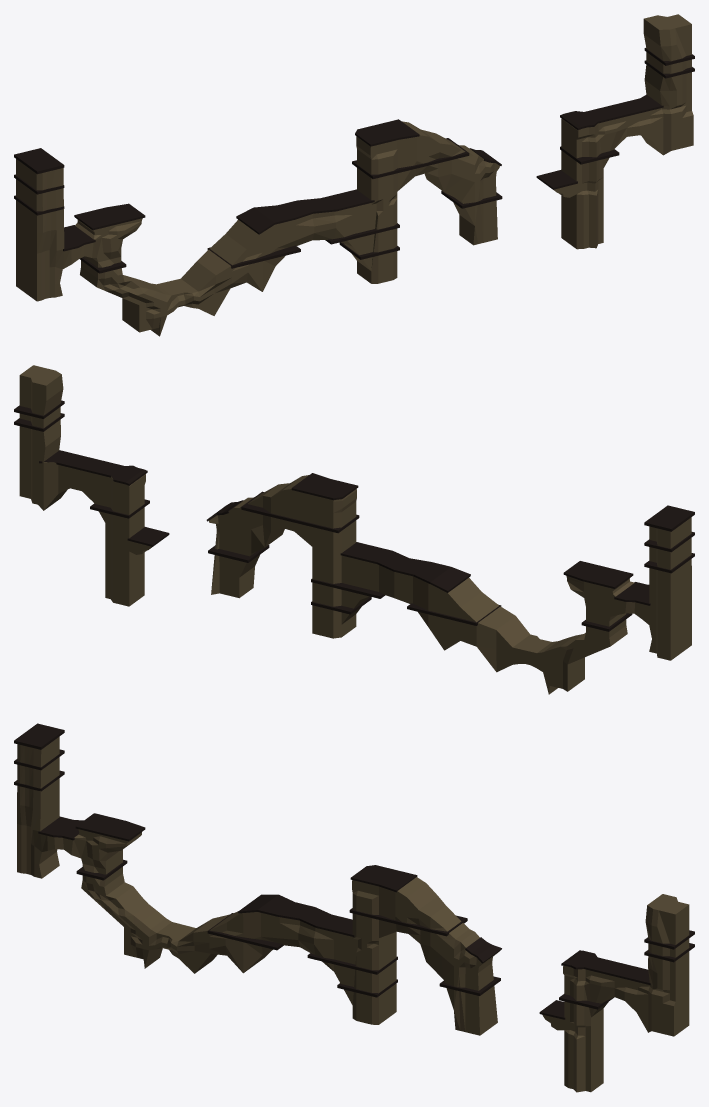
File: map0-2-3.FBX
3 renders of one model, top to bottom at view 1: azimuth 30°, elevation 25°; view 2: azimuth 150°, elevation 25°; view 3: azimuth 330°, elevation 25°, orthographic.
Parts seen in each view (by area): view 1: map0-2-3; view 2: map0-2-3; view 3: map0-2-3.
Part boxes in pixels (x1,y1,x2,y2): map0-2-3: (14,14,694,336); map0-2-3: (14,365,694,694); map0-2-3: (14,723,694,1092).
Size of the model in its own units: 795 by 51.46 by 246.
